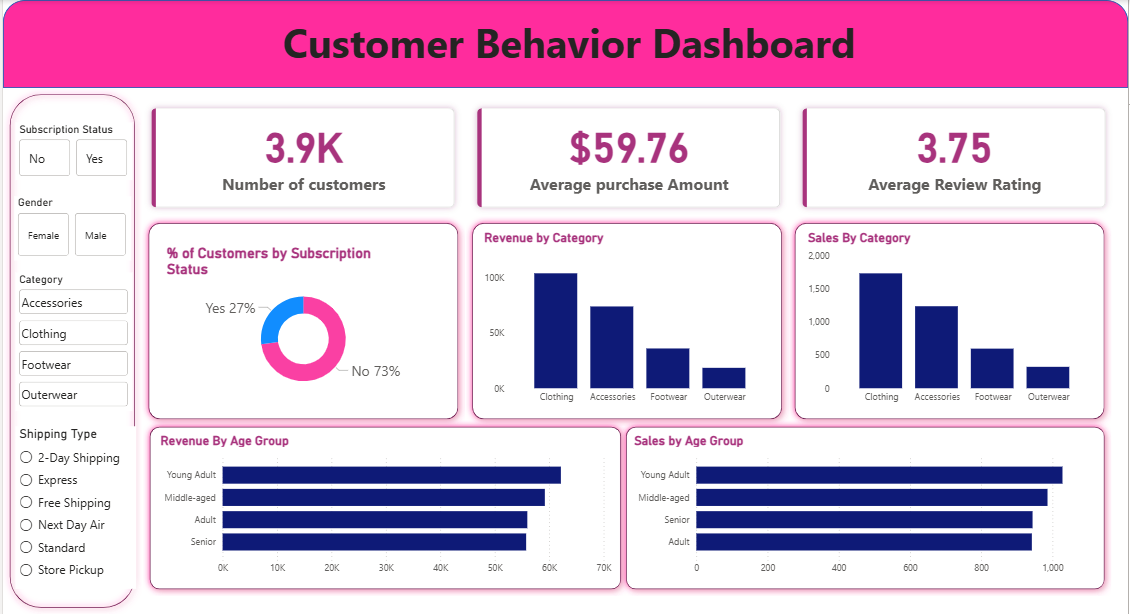

What the dashboard file says about the page in this screenshot:
{"tool":"powerbi","page":{"name":"Page 1","canvas":[1500,820],"ordinal":0},"visuals":[{"type":"cardVisual","fields":{"Data":["customer_behavior customer.Number of customers","customer_behavior customer.Average purchase Amount","customer_behavior customer.Average Review Rating"]},"box":[170.5,117.4,1329.9,188.1],"z":0},{"type":"shape","box":[0,0,1500.3,117.4],"z":1000},{"type":"textbox","box":[230,14.5,1050.1,86.8],"z":2000},{"type":"shape","box":[184.9,287.8,431,279.8],"z":3000},{"type":"donutChart","title":"% of  Customers by Subscription Status","fields":{"Category":["customer_behavior customer.subscription_status"],"Y":["CountNonNull(customer_behavior customer.customer_id)"]},"box":[213.9,326.4,374.7,202.6],"z":4000},{"type":"shape","box":[615.9,287.8,431,279.8],"z":5000},{"type":"clusteredColumnChart","title":"Revenue by Category","fields":{"Y":["Sum(customer_behavior customer.purchase_amount)"],"Category":["customer_behavior customer.category"]},"box":[636.8,307.1,390.8,241.2],"z":7000},{"type":"shape","box":[1046.9,287.8,431,279.8],"z":7500},{"type":"clusteredColumnChart","title":"Sales By Category","fields":{"Category":["customer_behavior customer.category"],"Y":["CountNonNull(customer_behavior customer.customer_id)"]},"box":[1067.8,307.1,390.8,241.2],"z":8000},{"type":"shape","box":[0,117.4,184.9,702.7],"z":9000},{"type":"advancedSlicerVisual","title":"Subscription Status","fields":{"Values":["customer_behavior customer.subscription_status"]},"box":[16.1,164,156,77.2],"z":10000},{"type":"advancedSlicerVisual","title":"Gender","fields":{"Values":["customer_behavior customer.gender"]},"box":[14.5,262.1,156,85.2],"z":11000},{"type":"advancedSlicerVisual","title":"Category","fields":{"Values":["customer_behavior customer.category"]},"box":[16.1,363.4,156,184.9],"z":12000},{"type":"listSlicer","title":"Shipping Type","fields":{"Values":["customer_behavior customer.shipping_type"]},"box":[16.1,567.6,160.8,217.1],"z":13000},{"type":"shape","box":[186.5,559.6,646.4,234.8],"z":15000},{"type":"clusteredBarChart","title":"Revenue By Age Group","fields":{"Y":["Sum(customer_behavior customer.purchase_amount)"],"Category":["customer_behavior customer.age_group"]},"box":[204.2,577.3,611.1,199.4],"z":15500},{"type":"shape","box":[821.7,559.6,656.1,234.8],"z":16000},{"type":"clusteredBarChart","title":"Sales by Age Group","fields":{"Category":["customer_behavior customer.age_group"],"Y":["CountNonNull(customer_behavior customer.customer_id)"]},"box":[836.2,577.3,630.4,199.4],"z":17000}]}

Visuals, with their boxes in screenshot pixels (x1, y1, x2, y2), scaled from the page's 1500x820 canvas onto the 1130x614 screenshot:
cardVisual - customer_behavior customer.Number of customers x customer_behavior customer.Average purchase Amount: (x1=128, y1=88, x2=1129, y2=229)
shape: (x1=0, y1=0, x2=1129, y2=88)
textbox: (x1=173, y1=11, x2=964, y2=76)
shape: (x1=139, y1=215, x2=464, y2=425)
"% of  Customers by Subscription Status" donutChart: (x1=161, y1=244, x2=443, y2=396)
shape: (x1=464, y1=215, x2=789, y2=425)
"Revenue by Category" clusteredColumnChart: (x1=480, y1=230, x2=774, y2=411)
shape: (x1=789, y1=215, x2=1113, y2=425)
"Sales By Category" clusteredColumnChart: (x1=804, y1=230, x2=1099, y2=411)
shape: (x1=0, y1=88, x2=139, y2=613)
"Subscription Status" advancedSlicerVisual: (x1=12, y1=123, x2=130, y2=181)
"Gender" advancedSlicerVisual: (x1=11, y1=196, x2=128, y2=260)
"Category" advancedSlicerVisual: (x1=12, y1=272, x2=130, y2=411)
"Shipping Type" listSlicer: (x1=12, y1=425, x2=133, y2=588)
shape: (x1=140, y1=419, x2=627, y2=595)
"Revenue By Age Group" clusteredBarChart: (x1=154, y1=432, x2=614, y2=582)
shape: (x1=619, y1=419, x2=1113, y2=595)
"Sales by Age Group" clusteredBarChart: (x1=630, y1=432, x2=1105, y2=582)
